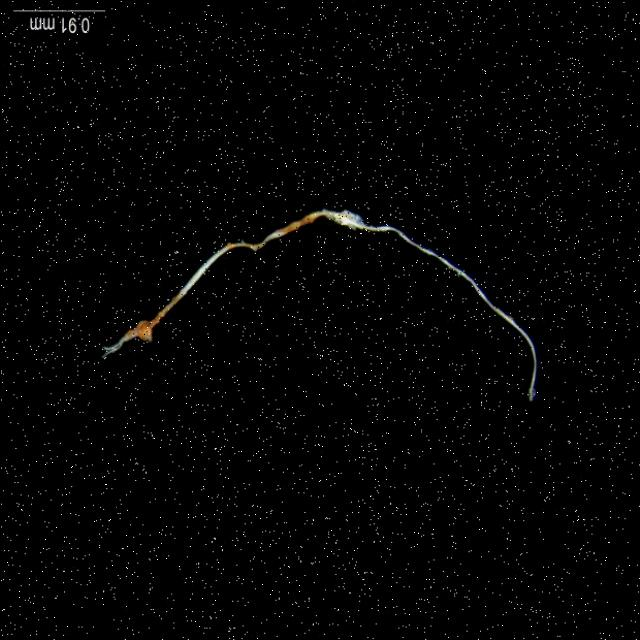Fibre: (99, 204, 544, 410)
